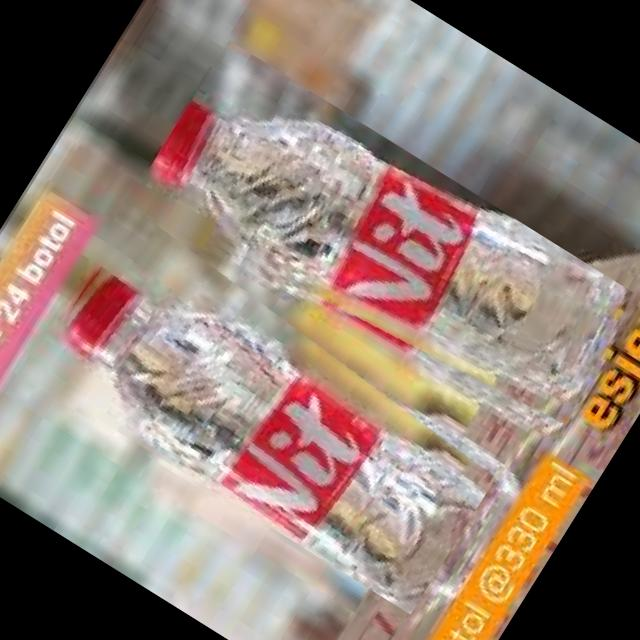plastic bottle: (129, 39, 640, 458), (22, 204, 514, 614)
